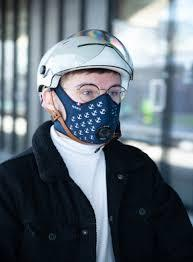Wearing Mask: (27, 16, 158, 165)
